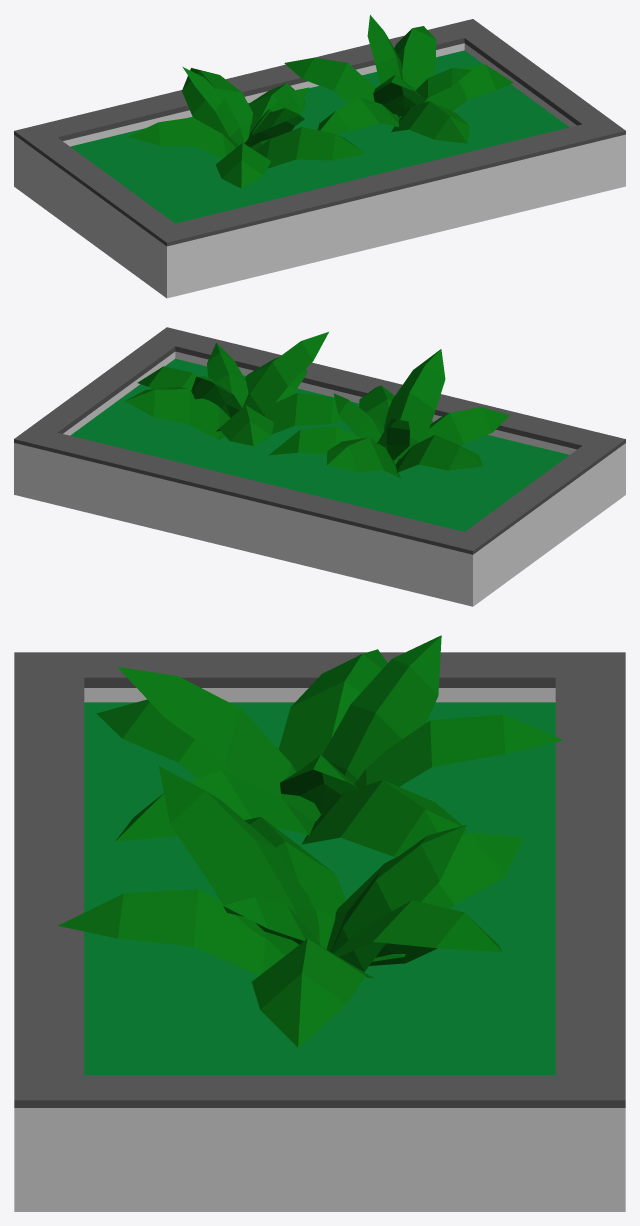
The model's file is Flowerbed-01c.fbx.
The picture shows the model from 3 angles, top to bottom: view 1: azimuth 30°, elevation 25°; view 2: azimuth 150°, elevation 25°; view 3: azimuth 270°, elevation 25°; orthographic projection. The views are drawn at different scales.
Visible parts, largest first — view 1: Flowerbed-01c; view 2: Flowerbed-01c; view 3: Flowerbed-01c.
Part boxes in pixels (<box>): Flowerbed-01c: <box>14,15,625,298</box>; Flowerbed-01c: <box>14,327,625,606</box>; Flowerbed-01c: <box>14,635,625,1211</box>.
Bounding box in the file's own units: 6.72 × 1.76 × 3.88.
